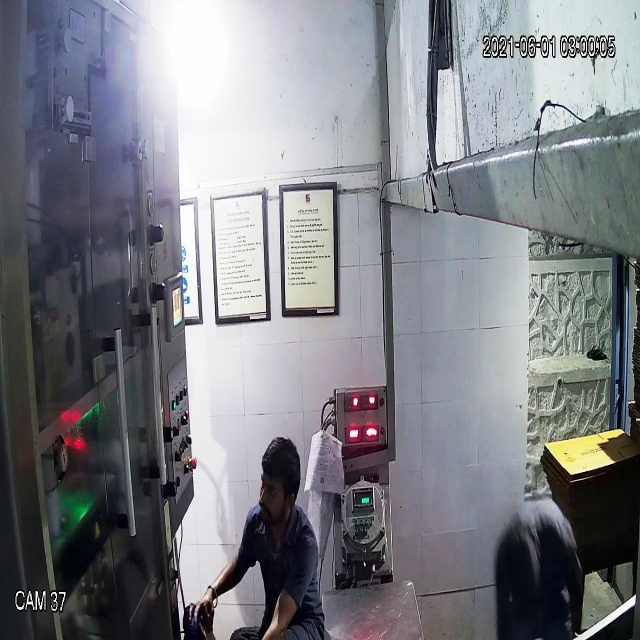Sin_gafas: (251, 468, 296, 508)
